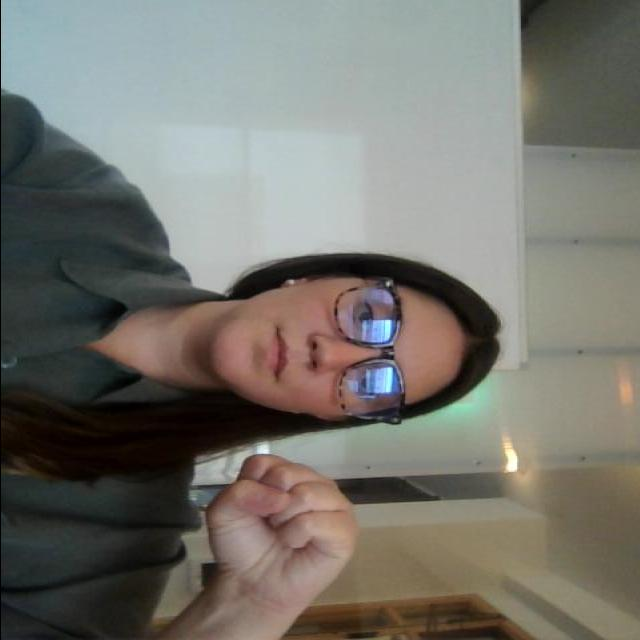Rock: (190, 450, 378, 617)
